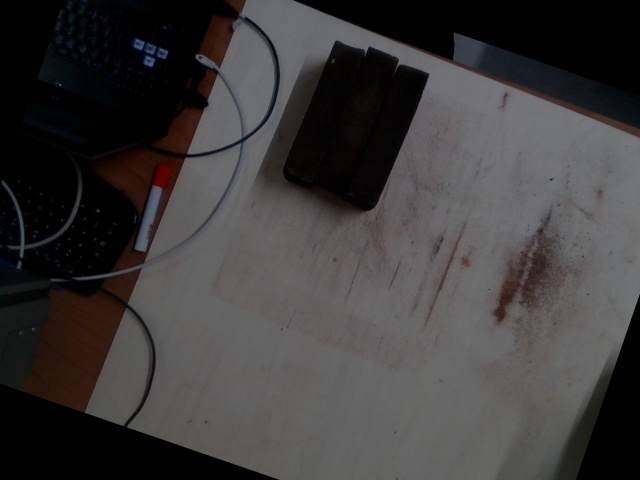brick-side: (283, 38, 366, 180), (347, 62, 430, 204), (316, 48, 399, 190)
